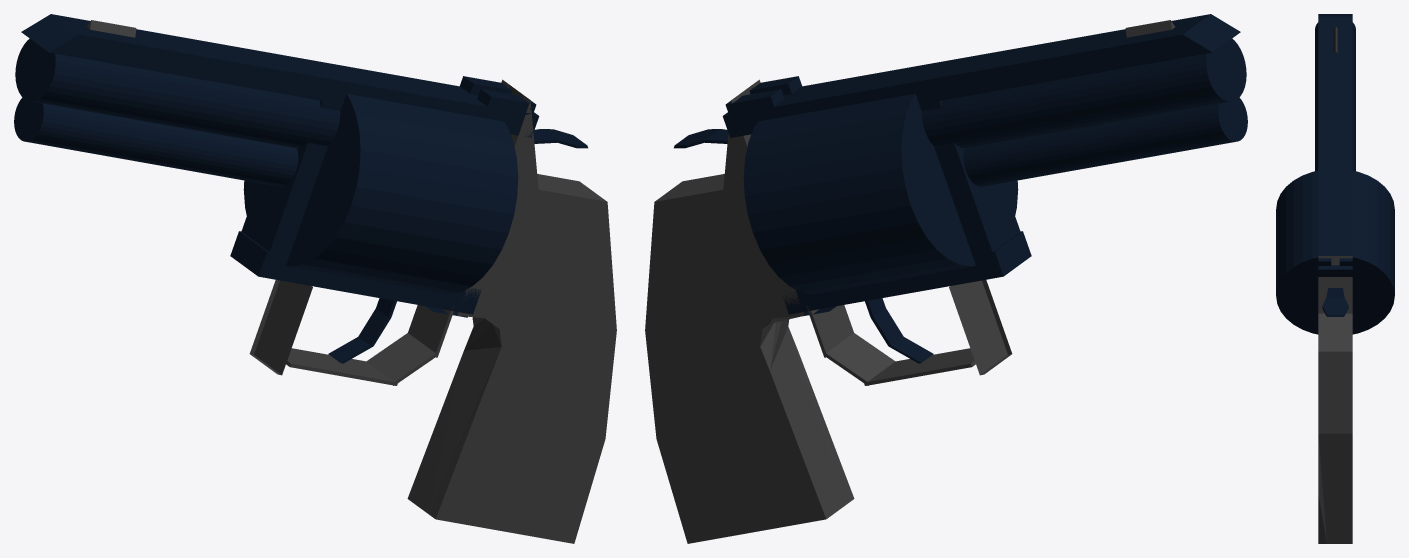
Rendered from revolver0012.obj.
3 renders of one model, left to right at view 1: azimuth 30°, elevation 25°; view 2: azimuth 150°, elevation 25°; view 3: azimuth 270°, elevation 25°, orthographic. The views are drawn at different scales.
Visible parts, largest first — view 1: Cube, bulletCylinder, barrel, upperFrame, cleaningRod, Cube.002, Cube.001, triggerGuard.001, triggerGuard.002, Cube.003, trigger, triggerGuard; view 2: Cube, bulletCylinder, upperFrame, barrel, cleaningRod, Cube.002, Cube.001, triggerGuard.001, triggerGuard.002, Cube.003, trigger, triggerGuard; view 3: bulletCylinder, Cube, upperFrame, barrel, Cube.003, trigger2.
Boxes of the visible parts, bbox=[...] form: Cube: bbox=[249, 79, 616, 543]; bulletCylinder: bbox=[243, 93, 518, 294]; barrel: bbox=[15, 38, 340, 148]; upperFrame: bbox=[21, 14, 539, 317]; cleaningRod: bbox=[14, 97, 298, 186]; Cube.002: bbox=[241, 83, 361, 269]; Cube.001: bbox=[230, 231, 481, 314]; triggerGuard.001: bbox=[366, 333, 438, 385]; triggerGuard.002: bbox=[286, 348, 397, 385]; Cube.003: bbox=[459, 76, 536, 117]; trigger: bbox=[328, 298, 396, 363]; triggerGuard: bbox=[408, 305, 453, 357]; Cube: bbox=[645, 79, 1012, 543]; bulletCylinder: bbox=[743, 93, 1018, 294]; upperFrame: bbox=[722, 14, 1240, 317]; barrel: bbox=[921, 38, 1246, 148]; cleaningRod: bbox=[963, 97, 1247, 186]; Cube.002: bbox=[900, 82, 1020, 269]; Cube.001: bbox=[783, 231, 1031, 314]; triggerGuard.001: bbox=[825, 333, 895, 385]; triggerGuard.002: bbox=[864, 348, 975, 385]; Cube.003: bbox=[725, 76, 802, 117]; trigger: bbox=[865, 298, 933, 363]; triggerGuard: bbox=[806, 305, 853, 357]; bulletCylinder: bbox=[1276, 170, 1394, 334]; Cube: bbox=[1318, 256, 1352, 543]; upperFrame: bbox=[1318, 14, 1352, 276]; barrel: bbox=[1315, 22, 1355, 171]; Cube.003: bbox=[1318, 236, 1352, 265]; trigger2: bbox=[1322, 288, 1348, 316].
Bounding box in the file's own units: 2.39 × 2.47 × 0.6981.
